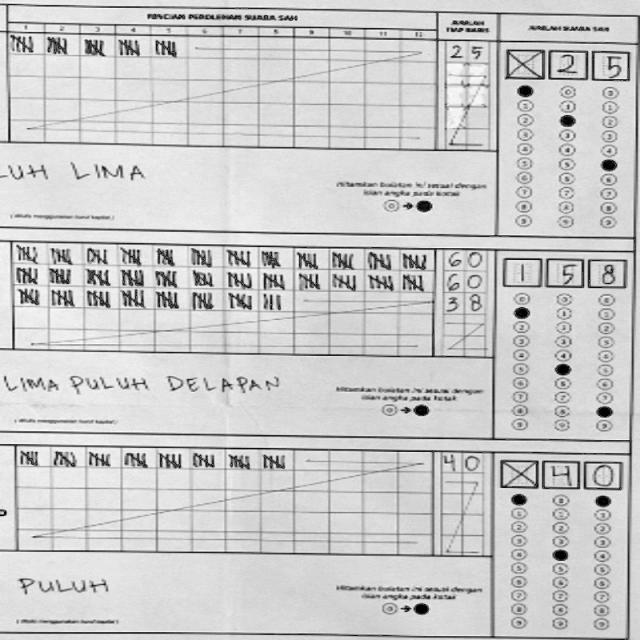Suara: (502, 44, 632, 84), (501, 250, 629, 290), (496, 457, 626, 490)
